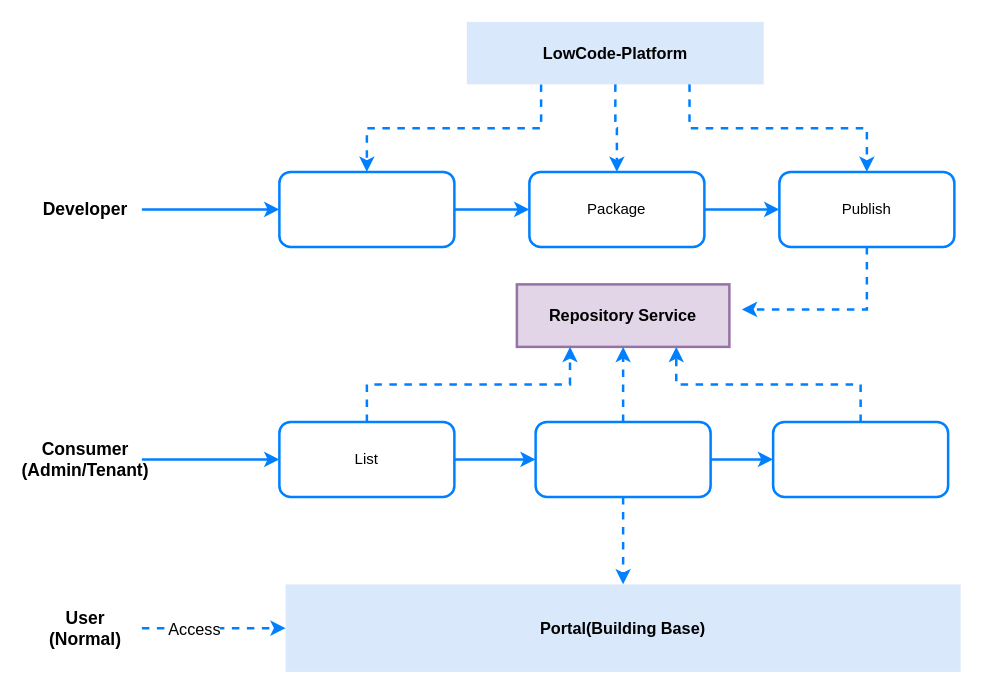
The diagram is 981 pixels wide and 693 high, and some of its shapes have lost their labels. Each missing label, with the box of its shape:
Deploy: (534, 420, 711, 498)
Develop: (278, 170, 455, 248)
Upgrade: (771, 420, 949, 498)
